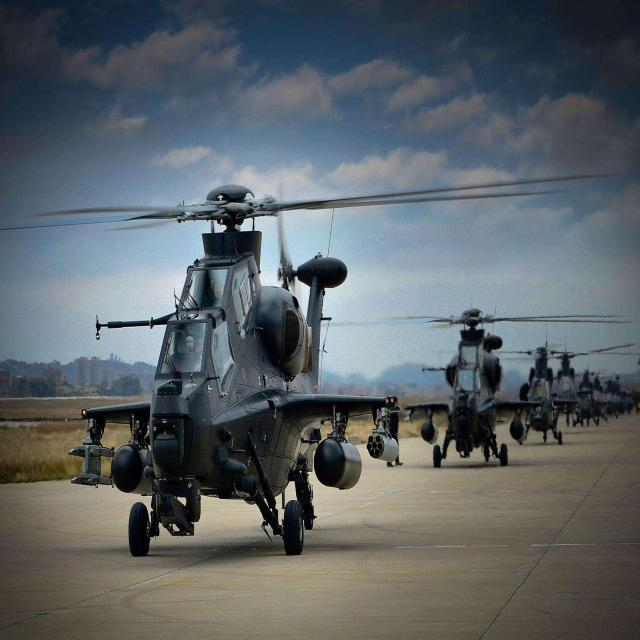MIL_HELO: (27, 165, 610, 561), (321, 287, 636, 482), (450, 327, 612, 449), (512, 330, 599, 430)
